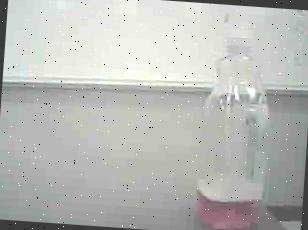hazard: (192, 3, 289, 230)
